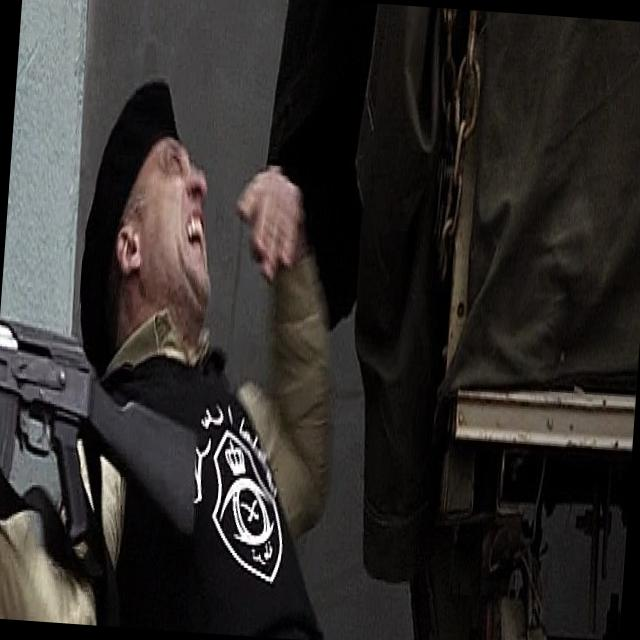Guns: (0, 202, 226, 632)
